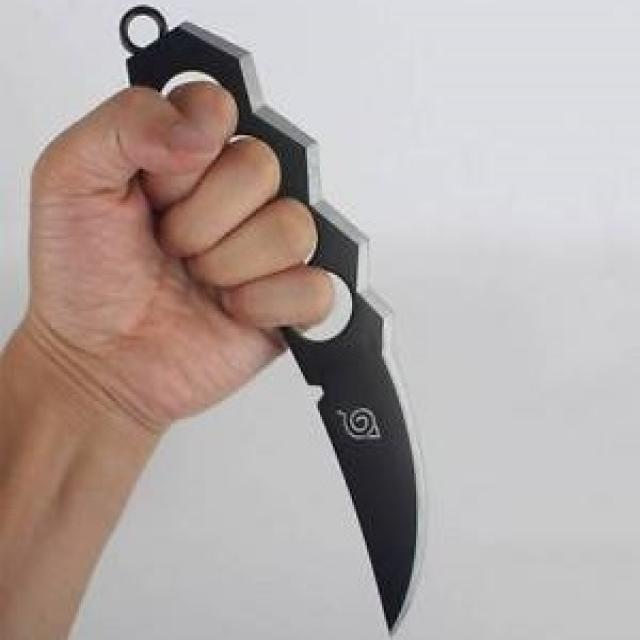knife: (117, 4, 451, 640)
